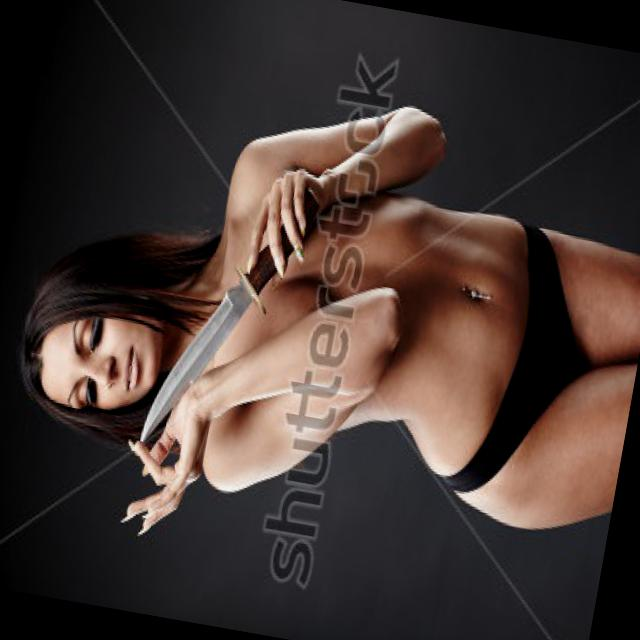knife: (120, 162, 322, 489)
